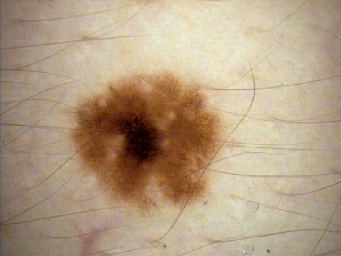melanoma: (77, 76, 217, 205)
